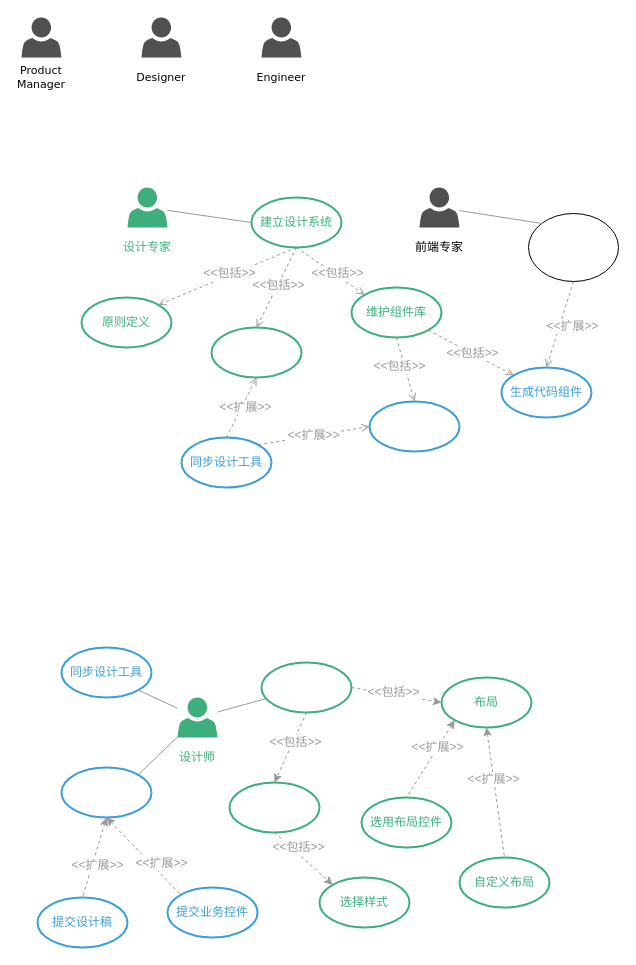
This 636x965 diagram has some shape labels left out. The centre of each missing label's shape, as x and y in pixels:
提交设计资产: point 106,792
生成设计控件: point 414,426
组件功能校验 调整、发布: point 573,247
维护样式表: point 256,352
设计区块/页面: point 306,687
选用控件: point 274,807
